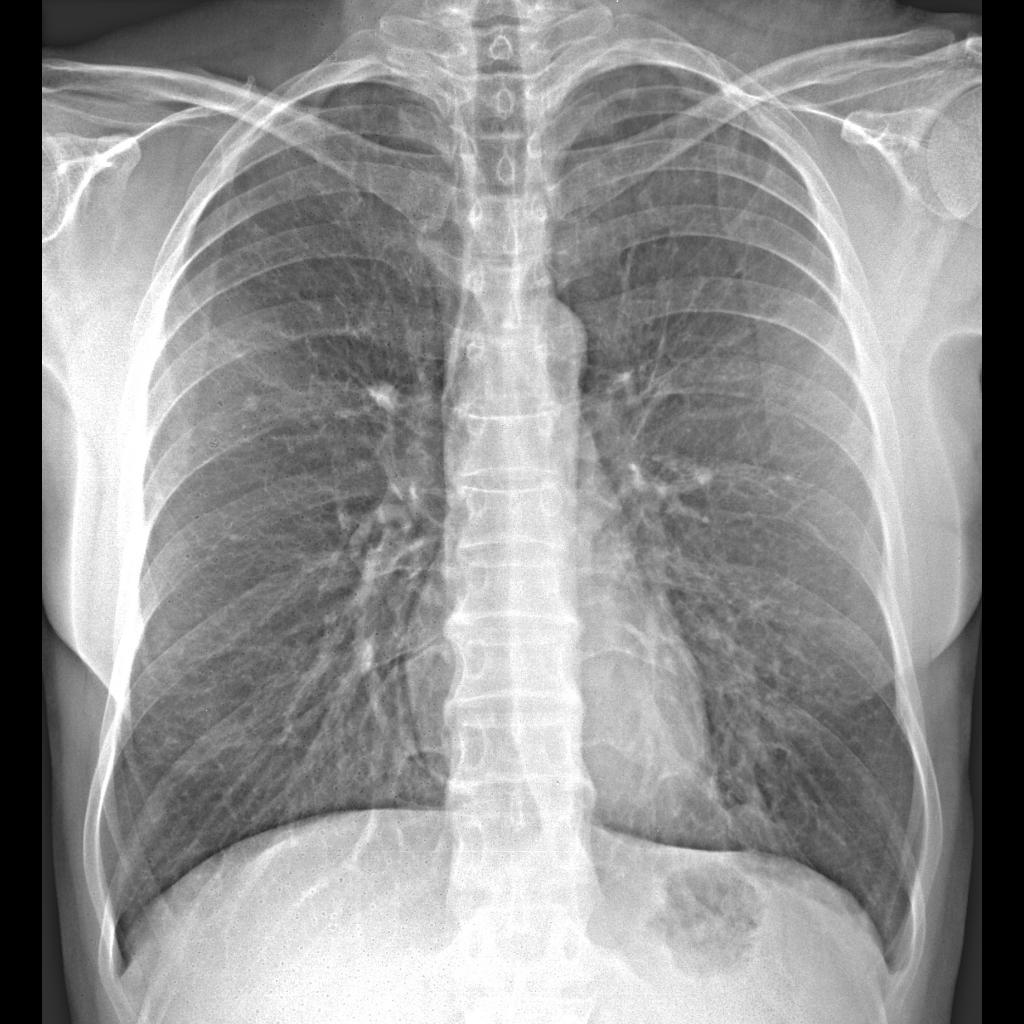Nodule: (358, 376, 402, 430), (238, 385, 278, 419)
